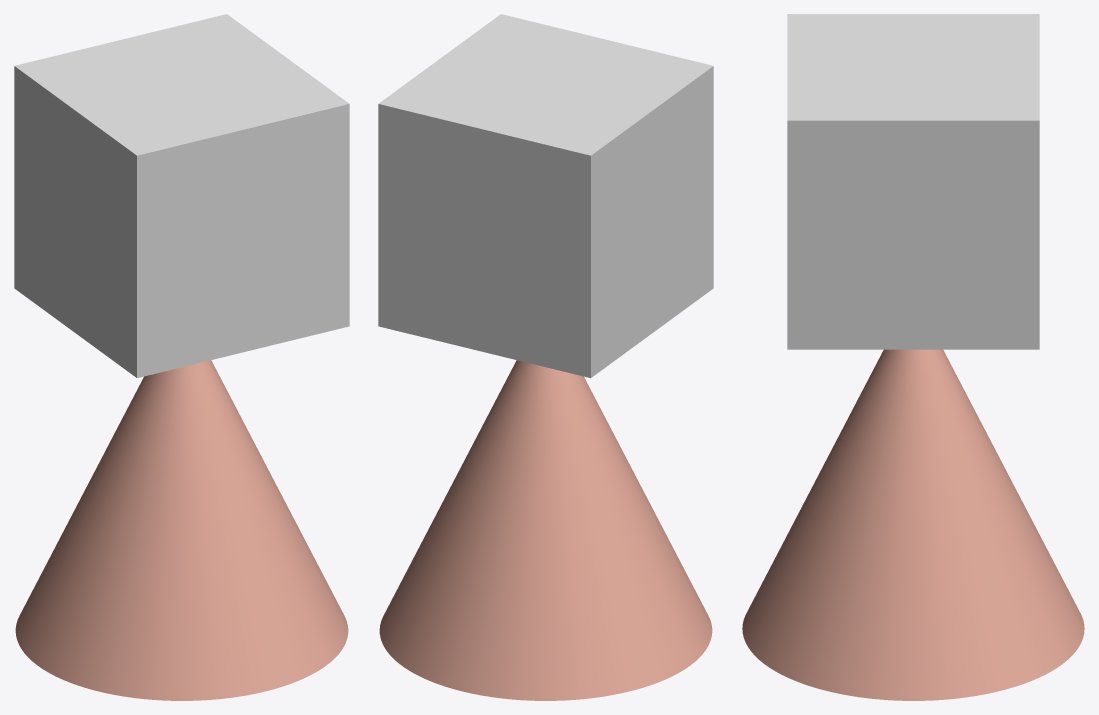
File: cone_pink_vertical.glb
3 views of the same model, side by side, from view 1: azimuth 30°, elevation 25°; view 2: azimuth 150°, elevation 25°; view 3: azimuth 270°, elevation 25° (orthographic). The views are drawn at different scales.
Parts seen in each view (by area): view 1: placeholder, Cone; view 2: placeholder, Cone; view 3: placeholder, Cone.
Boxes of the visible parts, x1,y1,x2,y2 form: placeholder: (14,14,349,378); Cone: (15,360,348,700); placeholder: (378,14,713,378); Cone: (379,360,712,700); placeholder: (787,14,1039,349); Cone: (742,349,1084,700).
Size of the model in its own units: 1.34 by 2.43 by 1.34.
